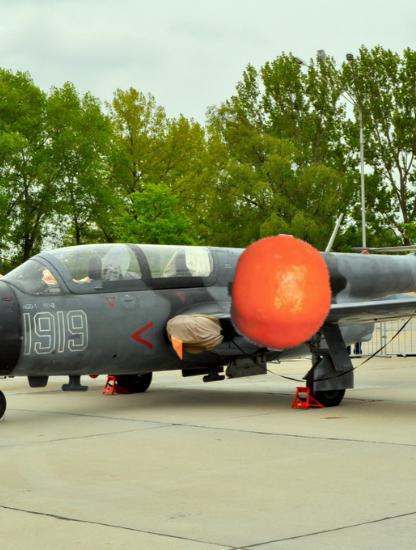Clementine: (221, 234, 338, 351)
